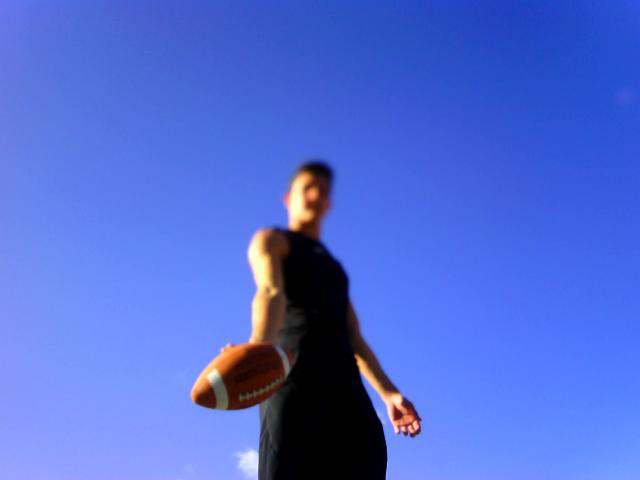footbal: (191, 341, 296, 411)
